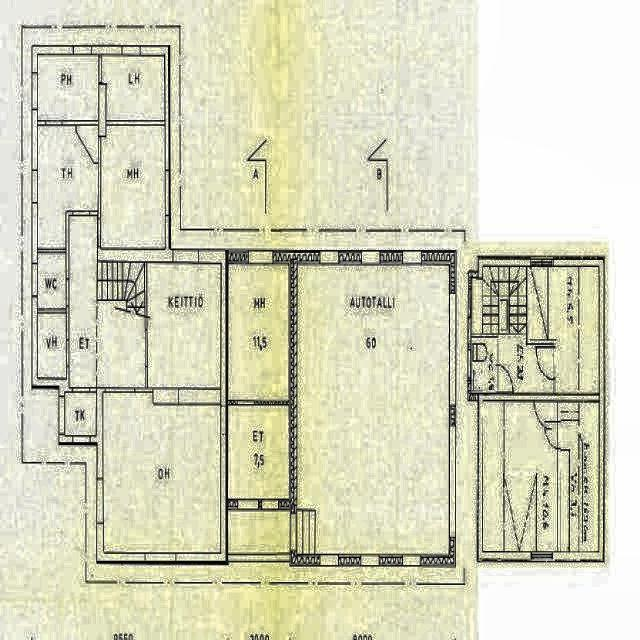room: (297, 264, 449, 554), (103, 393, 220, 552), (483, 401, 598, 551), (526, 267, 599, 394), (147, 263, 220, 387), (228, 264, 289, 400), (101, 126, 165, 249), (38, 126, 98, 249), (228, 405, 289, 499), (102, 57, 164, 120), (38, 55, 98, 120), (38, 314, 66, 377), (38, 253, 66, 308), (471, 338, 497, 393), (65, 393, 96, 435)
